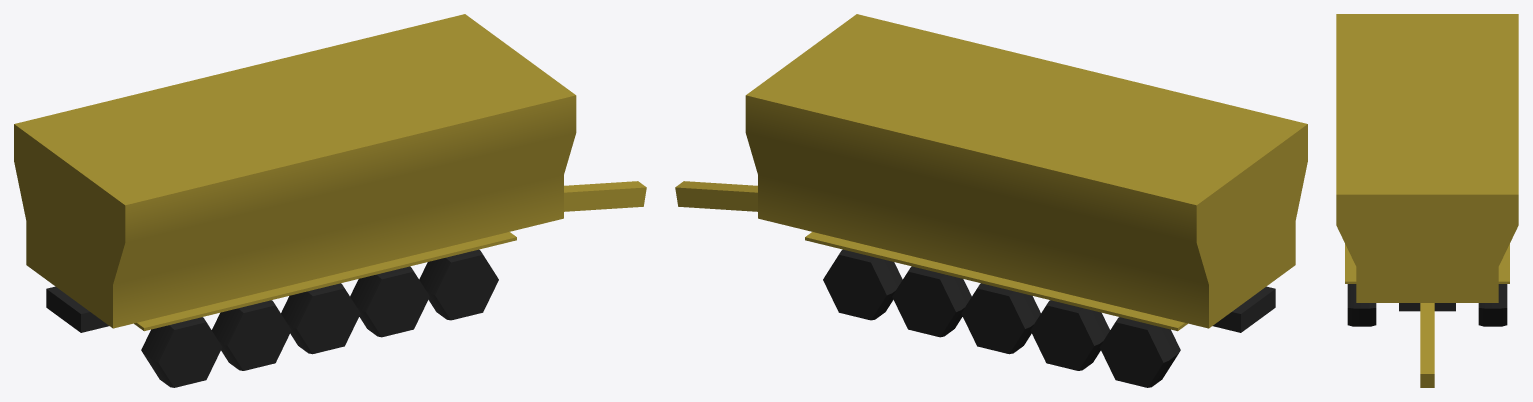
File: SM_Prop_farm_chaser_0_LOD2.glb
3 renders of one model, left to right at view 1: azimuth 30°, elevation 25°; view 2: azimuth 150°, elevation 25°; view 3: azimuth 270°, elevation 25°, orthographic. The views are drawn at different scales.
Visible parts, largest first — view 1: SM_Prop_farm_chaser_0_LOD2; view 2: SM_Prop_farm_chaser_0_LOD2; view 3: SM_Prop_farm_chaser_0_LOD2.
Boxes of the visible parts, x1,y1,x2,y2 form: SM_Prop_farm_chaser_0_LOD2: (14,14,646,387); SM_Prop_farm_chaser_0_LOD2: (675,14,1307,387); SM_Prop_farm_chaser_0_LOD2: (1336,14,1518,387).
Size of the model in its own units: 9.63 by 3.22 by 3.2.
